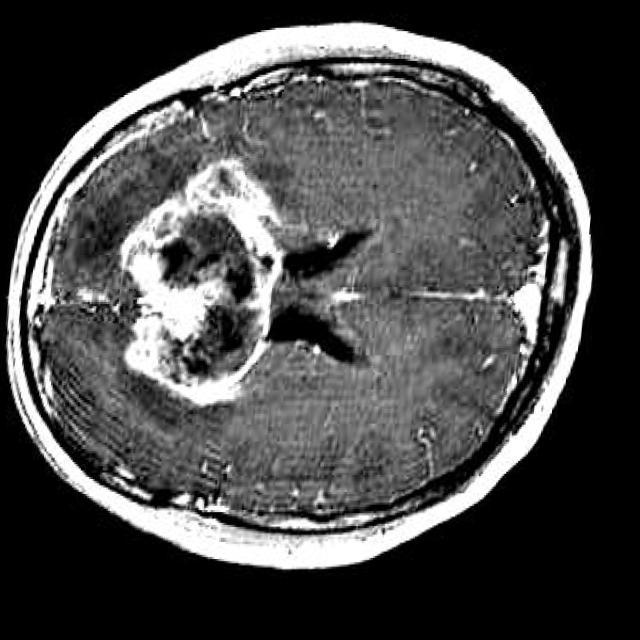Tumor: (122, 159, 287, 404)
